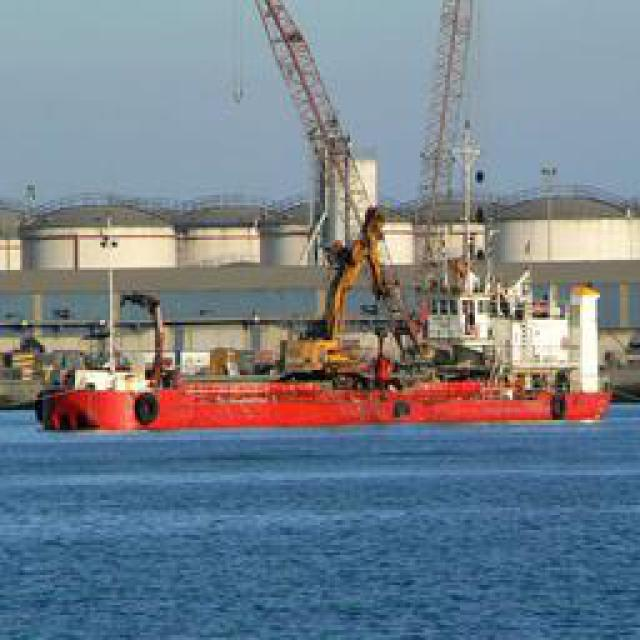Ship: (30, 355, 618, 438)
